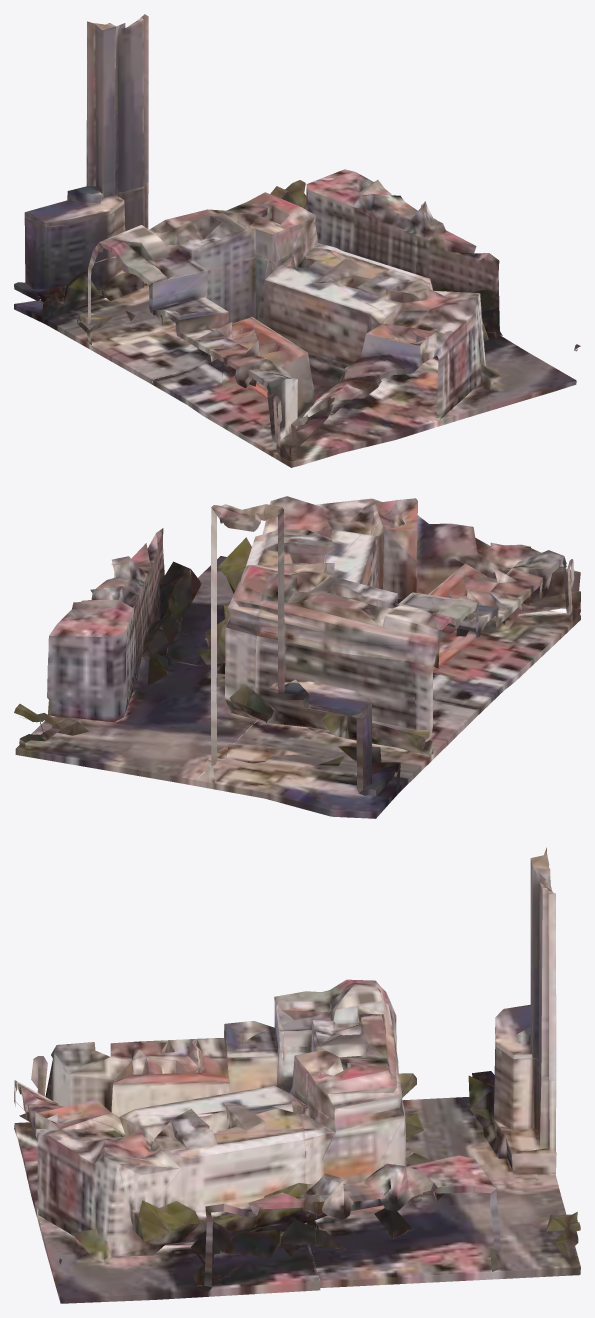
The picture shows the model from 3 angles, top to bottom: view 1: azimuth 30°, elevation 25°; view 2: azimuth 150°, elevation 25°; view 3: azimuth 270°, elevation 25°; orthographic projection. The views are drawn at different scales.
Visible parts, largest first — view 1: Mesh_0; view 2: Mesh_0; view 3: Mesh_0.
Boxes of the visible parts, x1,y1,x2,y2 form: Mesh_0: (14, 14, 580, 467); Mesh_0: (14, 496, 580, 818); Mesh_0: (14, 847, 580, 1303).
Size of the model in its own units: 135 by 98.63 by 165.
Materials: 1 (1 with a texture image).
